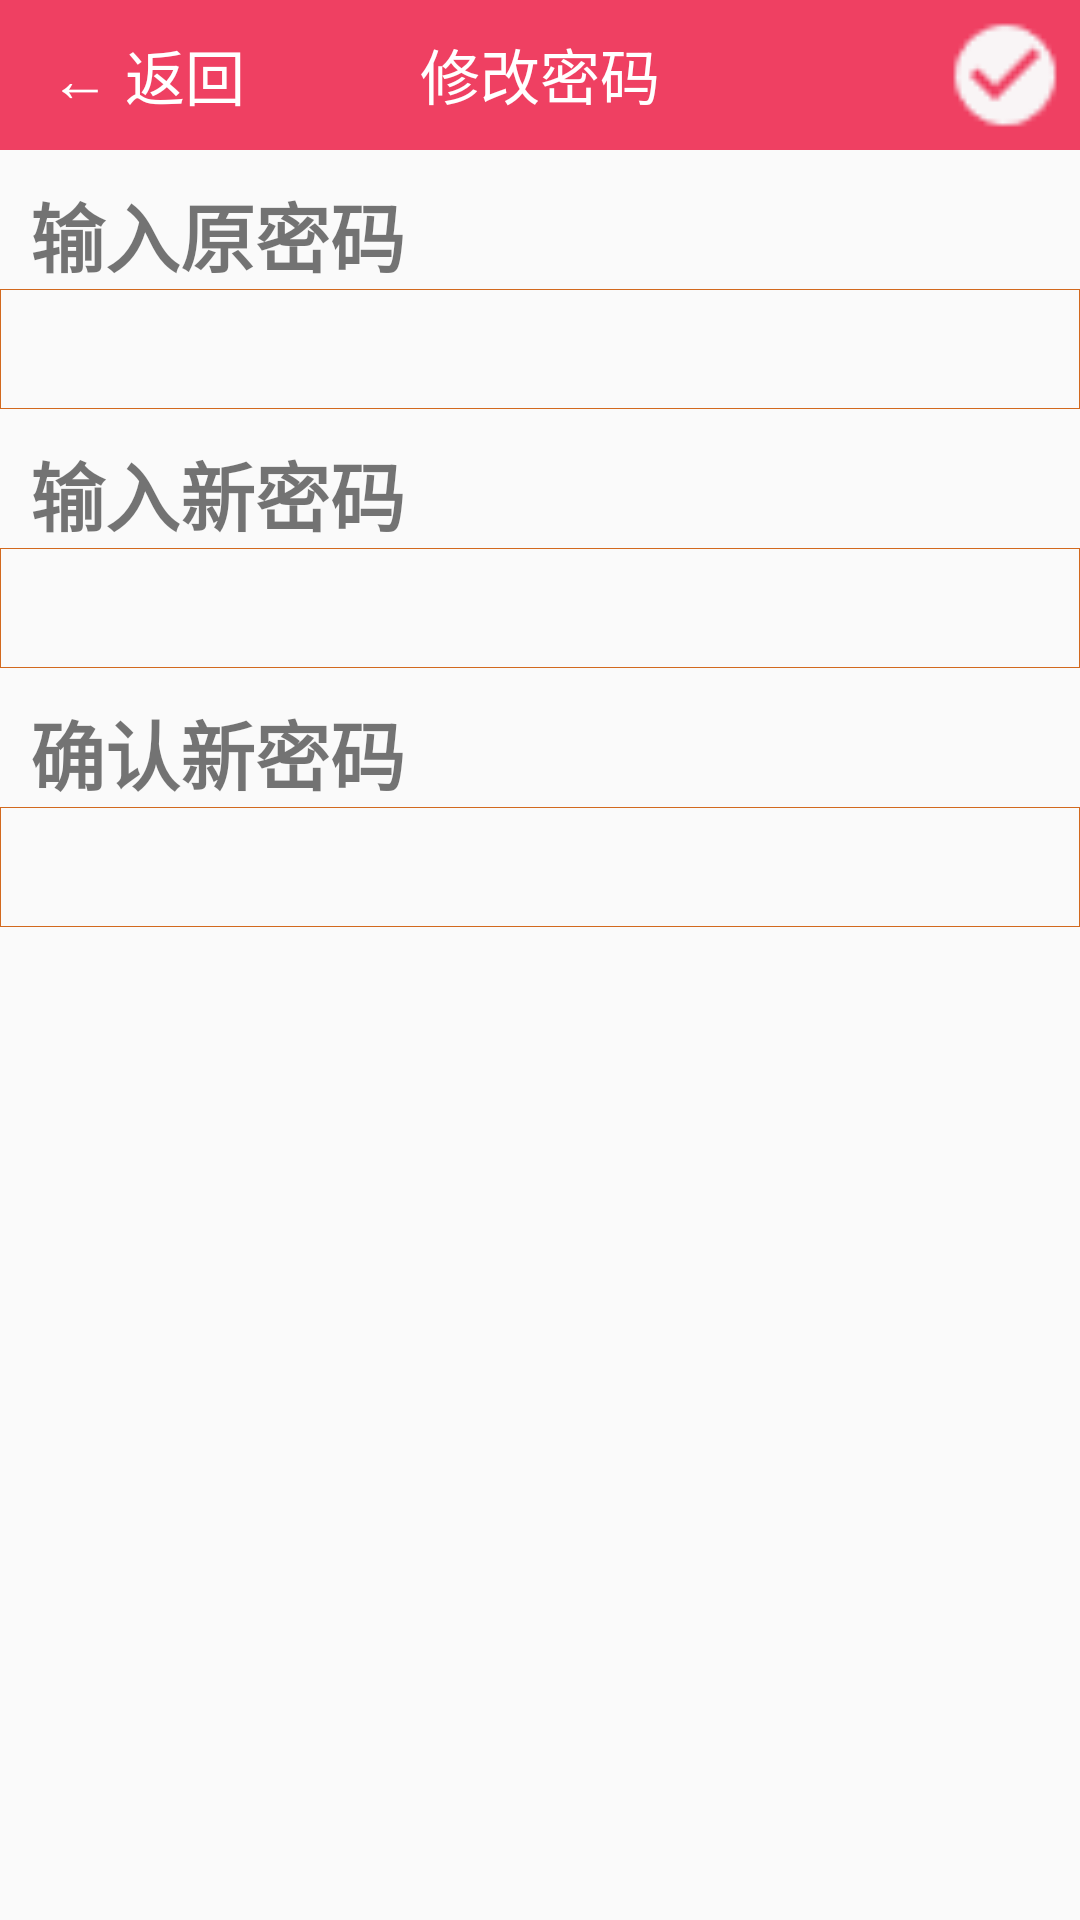

Where icons sit on this 1080px x 1920px app screen, as (x1, y1, x2, y2):
confirm: (953, 23, 1057, 127)
